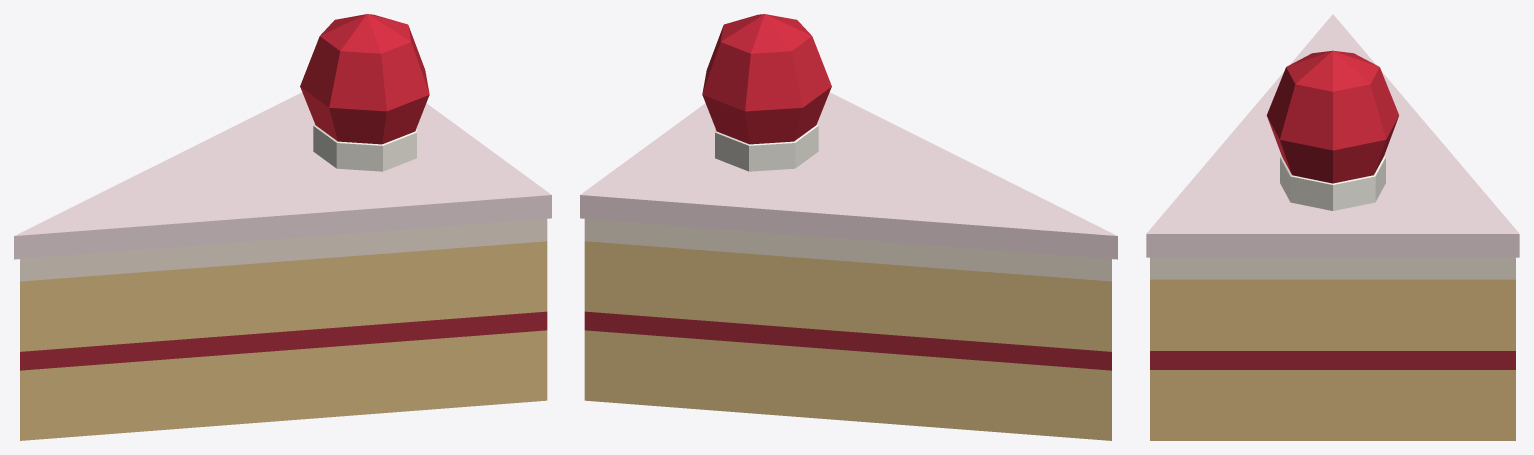
The model's file is Food_CakeSlice.obj.
The picture shows the model from 3 angles, left to right: view 1: azimuth 30°, elevation 25°; view 2: azimuth 150°, elevation 25°; view 3: azimuth 270°, elevation 25°; orthographic projection.
Bounding box in the file's own units: 1.99 × 1.46 × 1.43.
